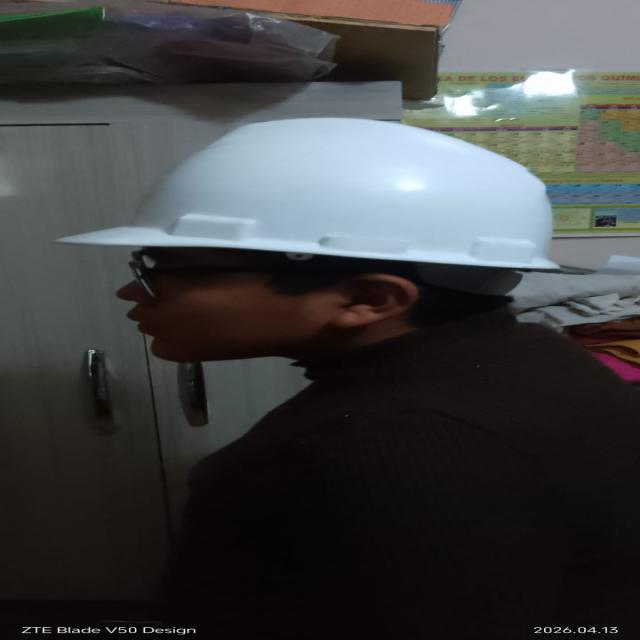casco: (49, 100, 586, 279)
